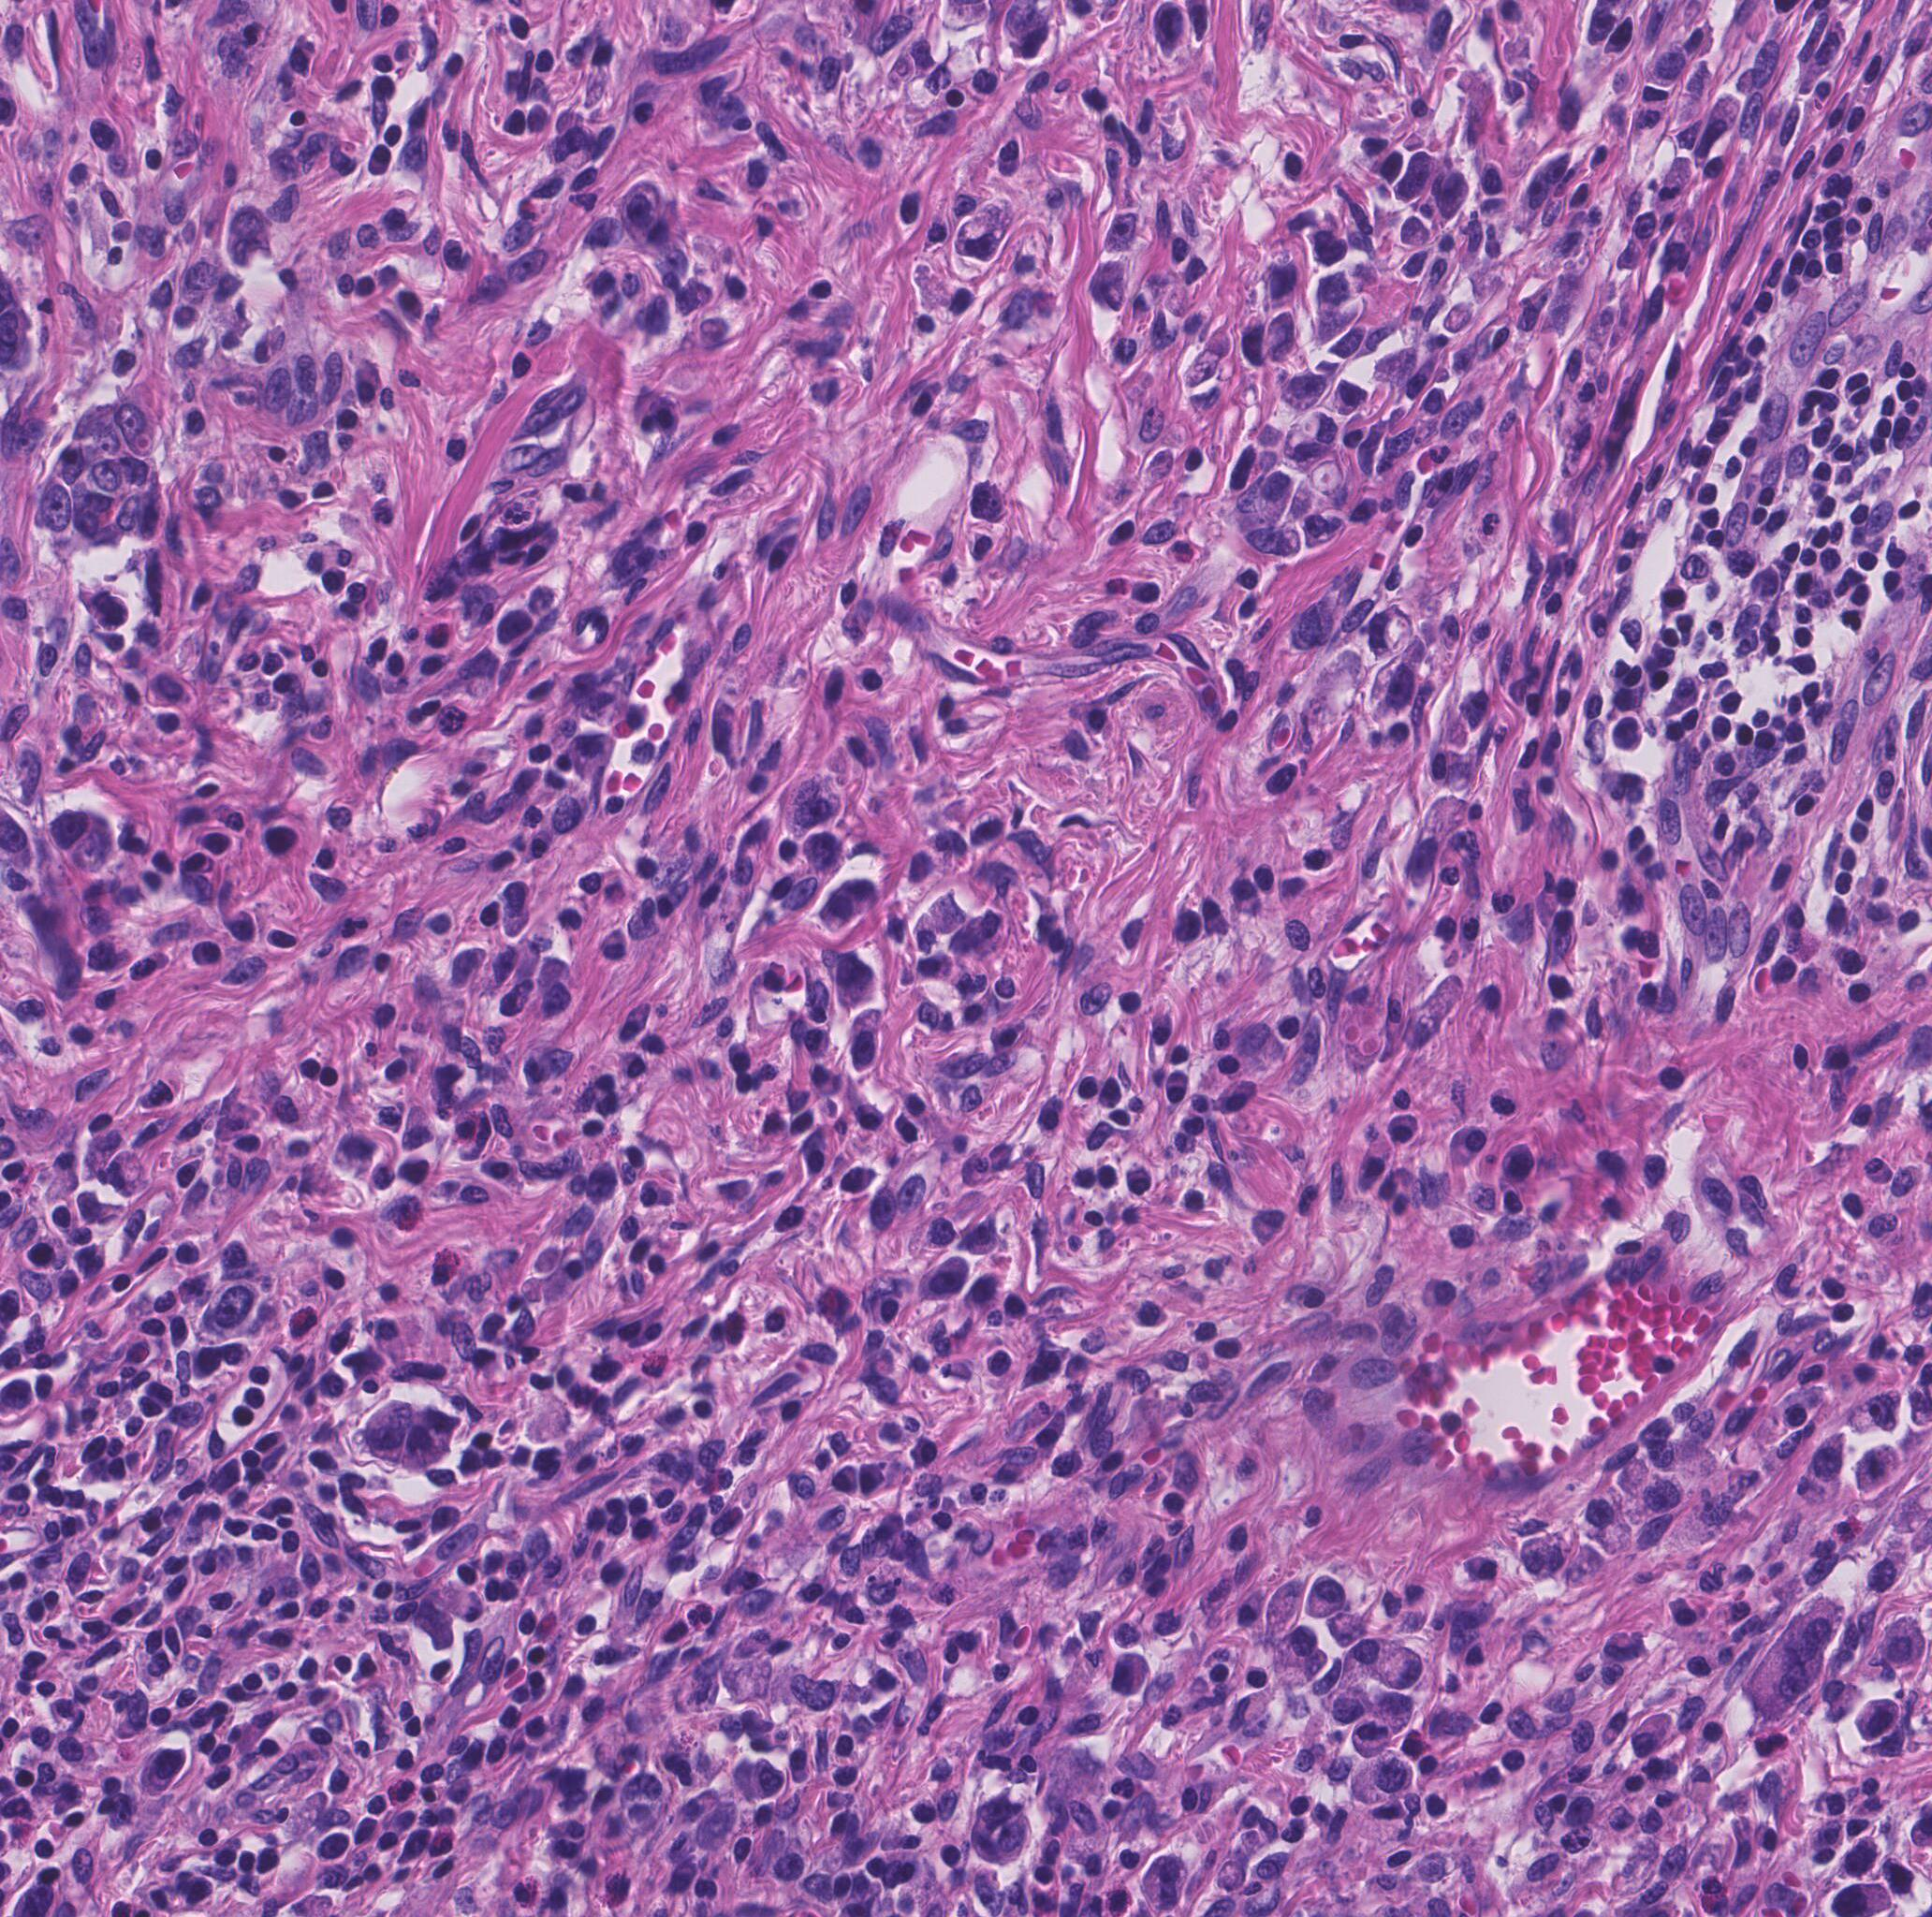ring_cell_cancer: (1311, 267, 1376, 344), (221, 198, 284, 270), (407, 1401, 467, 1476), (974, 1791, 1034, 1864), (191, 1282, 265, 1341), (1579, 1485, 1635, 1559), (1272, 1622, 1327, 1696), (783, 774, 846, 837), (819, 871, 884, 932), (956, 198, 1016, 265), (363, 1397, 414, 1475), (1349, 1750, 1416, 1808), (1867, 1615, 1928, 1673), (137, 1736, 193, 1799), (1139, 1850, 1195, 1913), (1290, 595, 1348, 651), (1374, 1629, 1425, 1691), (834, 950, 884, 1011), (916, 1252, 972, 1306), (1249, 467, 1300, 527), (77, 583, 137, 630), (567, 729, 618, 781), (949, 908, 1004, 957), (1853, 1441, 1902, 1496), (1850, 1698, 1906, 1745), (735, 1757, 788, 1806), (1516, 1531, 1572, 1576), (1367, 1689, 1420, 1736), (1323, 1680, 1372, 1729), (495, 880, 535, 939), (1625, 1713, 1678, 1759), (1153, 2, 1191, 63), (1109, 1648, 1153, 1701), (1595, 1629, 1655, 1668), (333, 1131, 381, 1178), (963, 804, 1011, 851), (1304, 1571, 1349, 1619), (1249, 1204, 1286, 1250), (1353, 1719, 1390, 1761), (853, 1101, 886, 1134)
